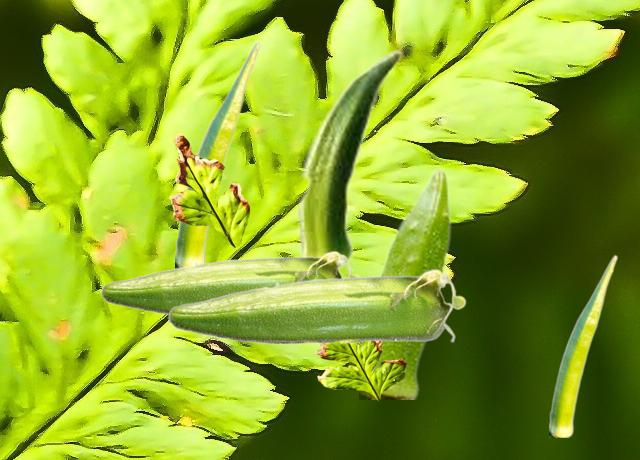okra: (296, 49, 402, 272), (167, 268, 465, 344), (359, 166, 451, 398), (175, 41, 259, 267), (100, 250, 360, 315), (549, 254, 616, 436)
